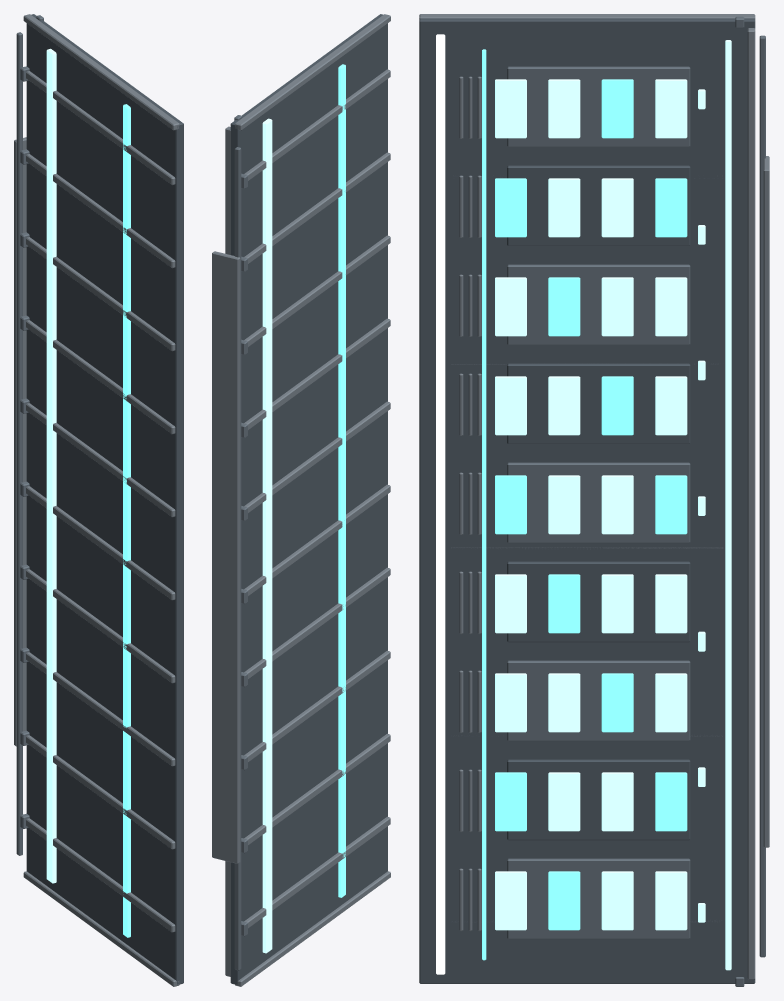
The model's file is wall_ribbon_rift_l.glb.
3 views of the same model, side by side, from view 1: azimuth 30°, elevation 25°; view 2: azimuth 150°, elevation 25°; view 3: azimuth 270°, elevation 25° (orthographic). The views are drawn at different scales.
Visible parts, largest first — view 1: WallRibbon_rift_L; view 2: WallRibbon_rift_L; view 3: WallRibbon_rift_L.
Boxes of the visible parts, x1=… form: WallRibbon_rift_L: x1=14, y1=14, x2=183, y2=986; WallRibbon_rift_L: x1=212, y1=14, x2=390, y2=986; WallRibbon_rift_L: x1=419, y1=14, x2=769, y2=986.
Size of the model in its own units: 0.455 by 14 by 4.59.
